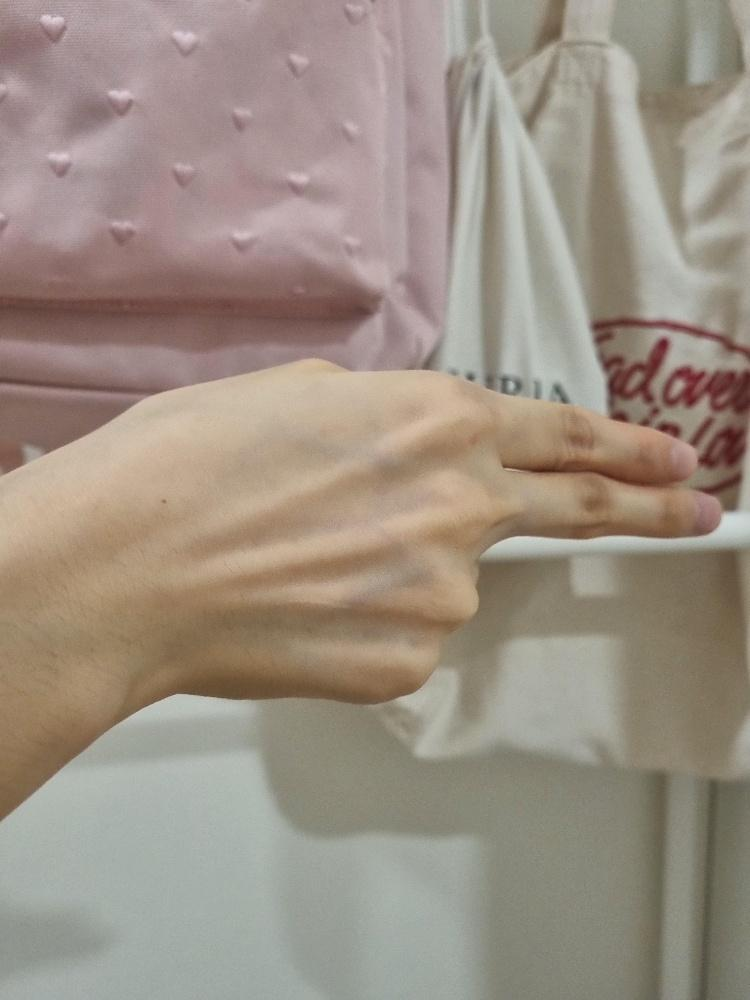h: (134, 353, 723, 706)
